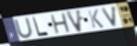H: (50, 12, 72, 36)
K: (87, 8, 105, 29)
L: (32, 16, 50, 37)
U: (13, 17, 35, 39)
V: (64, 9, 83, 34), (100, 5, 118, 28)
